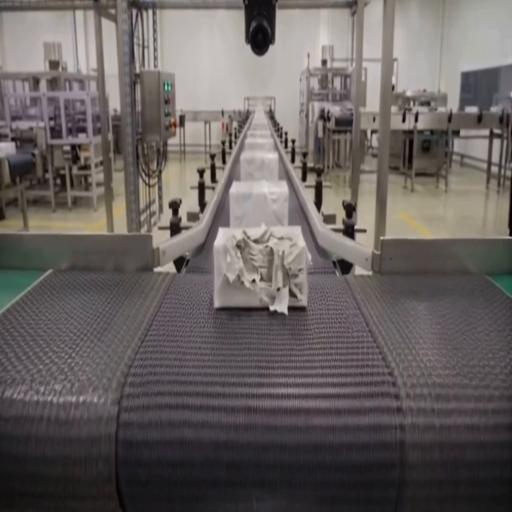defective: (213, 223, 309, 310)
good: (228, 180, 289, 230), (238, 149, 280, 182), (244, 132, 275, 152), (246, 108, 273, 130), (0, 141, 17, 160)
